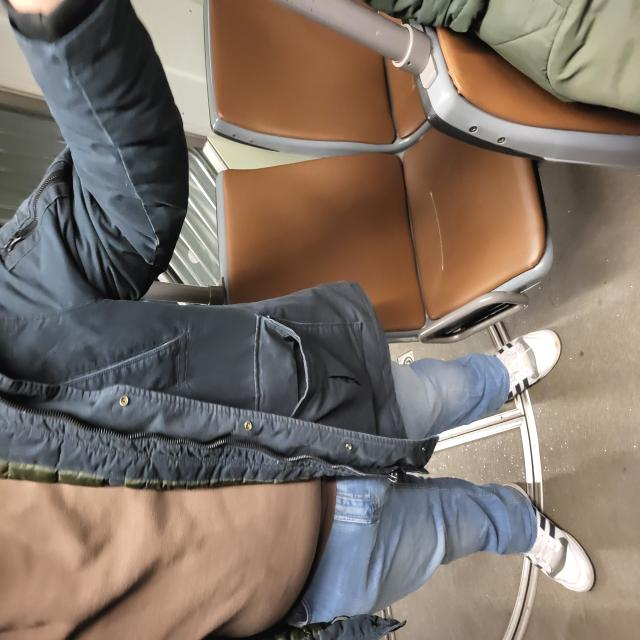asiento-libre: (225, 291, 385, 640), (364, 270, 480, 573)
